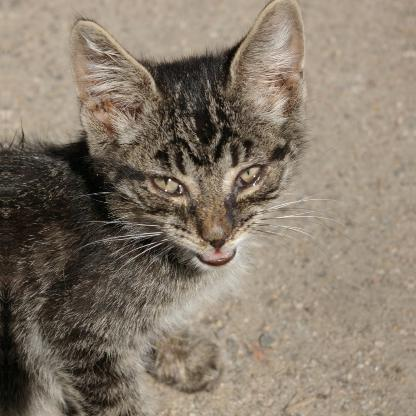Cat: (4, 1, 352, 415)
